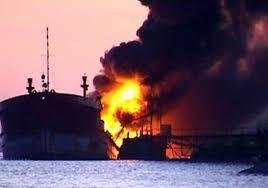fire: (93, 77, 160, 153)
